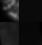heart: (19, 0, 42, 22)
lifeC: (0, 0, 19, 22)
